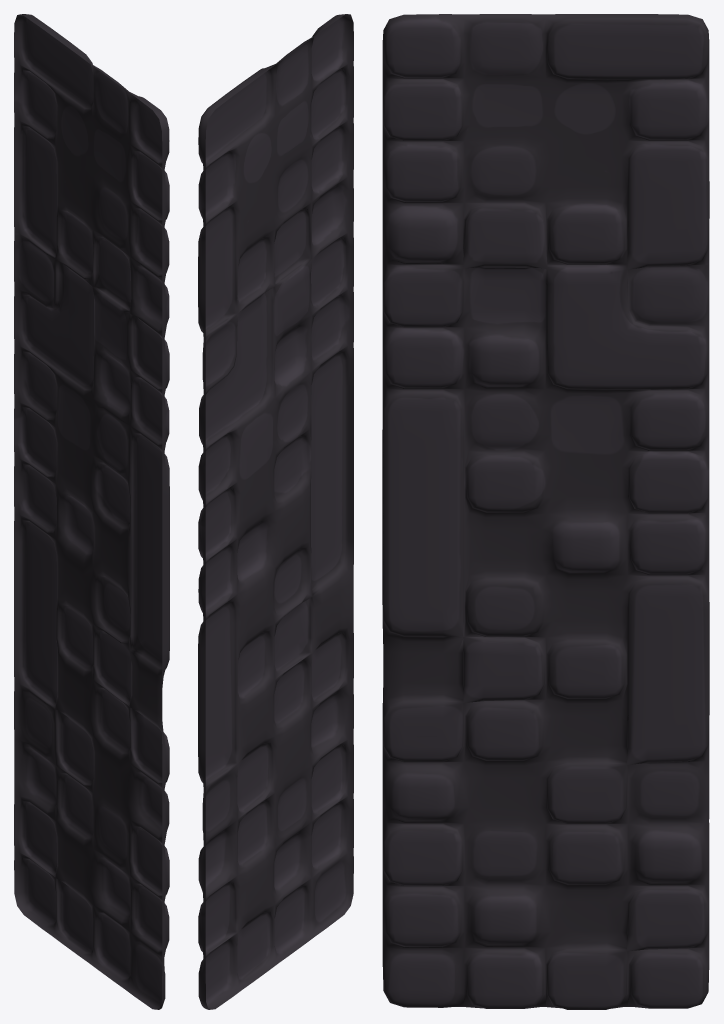
File: Pumpkin_wall_1.fbx
3 renders of one model, left to right at view 1: azimuth 30°, elevation 25°; view 2: azimuth 150°, elevation 25°; view 3: azimuth 270°, elevation 25°, orthographic. The views are drawn at different scales.
Visible parts, largest first — view 1: Plane.002; view 2: Plane.002; view 3: Plane.002.
Boxes of the visible parts, x1=… form: Plane.002: x1=14, y1=14, x2=169, y2=1009; Plane.002: x1=198, y1=14, x2=353, y2=1009; Plane.002: x1=382, y1=14, x2=709, y2=1009.
Size of the model in its own units: 596 by 1998 by 34.89.
